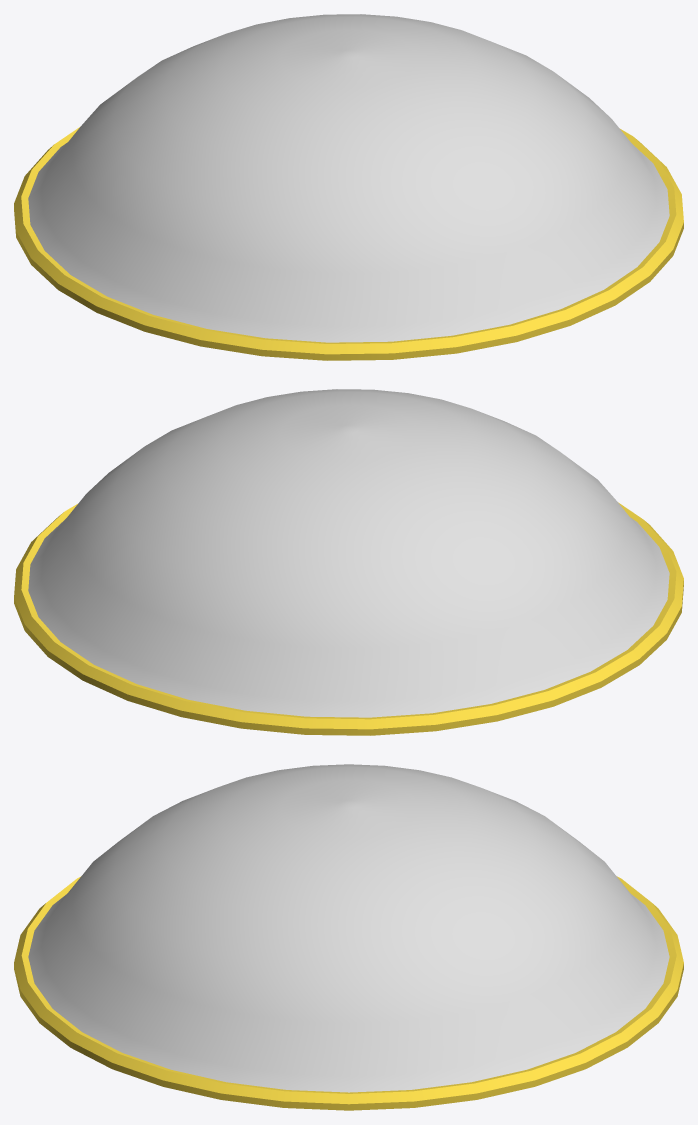
File: roof_small_01.fbx
3 renders of one model, top to bottom at view 1: azimuth 30°, elevation 25°; view 2: azimuth 150°, elevation 25°; view 3: azimuth 270°, elevation 25°, orthographic.
Parts seen in each view (by area): view 1: roof_small; view 2: roof_small; view 3: roof_small.
Part boxes in pixels (<box>): roof_small: <box>14,14,683,360</box>; roof_small: <box>14,389,683,735</box>; roof_small: <box>14,764,683,1110</box>.
Bounding box in the file's own units: 121 × 33.13 × 121.
